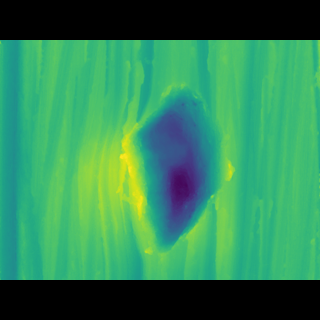Loch: (106, 99, 239, 235)
